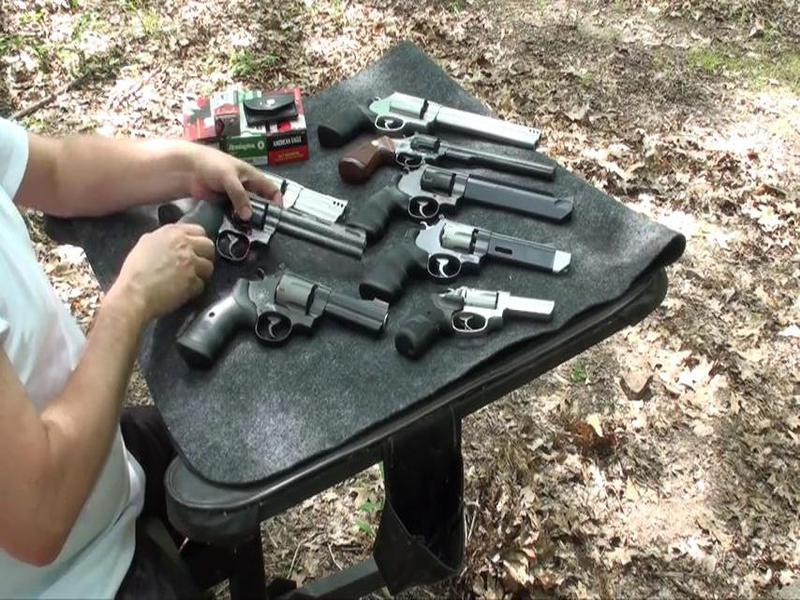Revolver: (158, 168, 363, 301)
